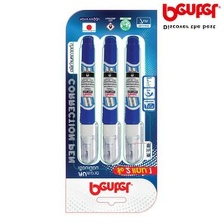book: (62, 7, 159, 215)
correction_fluid: (100, 34, 124, 165), (122, 33, 145, 165), (78, 34, 100, 165)
